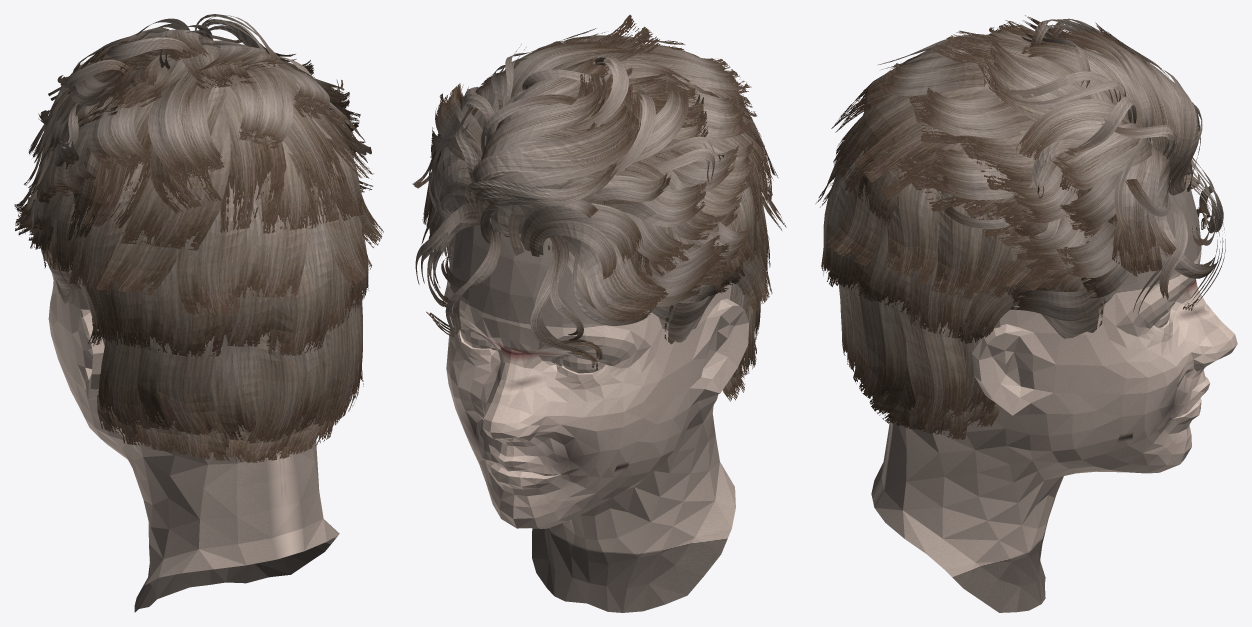
File: echo-head.glb
The picture shows the model from 3 angles, left to right: view 1: azimuth 30°, elevation 25°; view 2: azimuth 150°, elevation 25°; view 3: azimuth 270°, elevation 25°; orthographic projection.
Bounding box in the file's own units: 1.9 × 3.2 × 2.21.
Materials: 2 (2 with a texture image).
